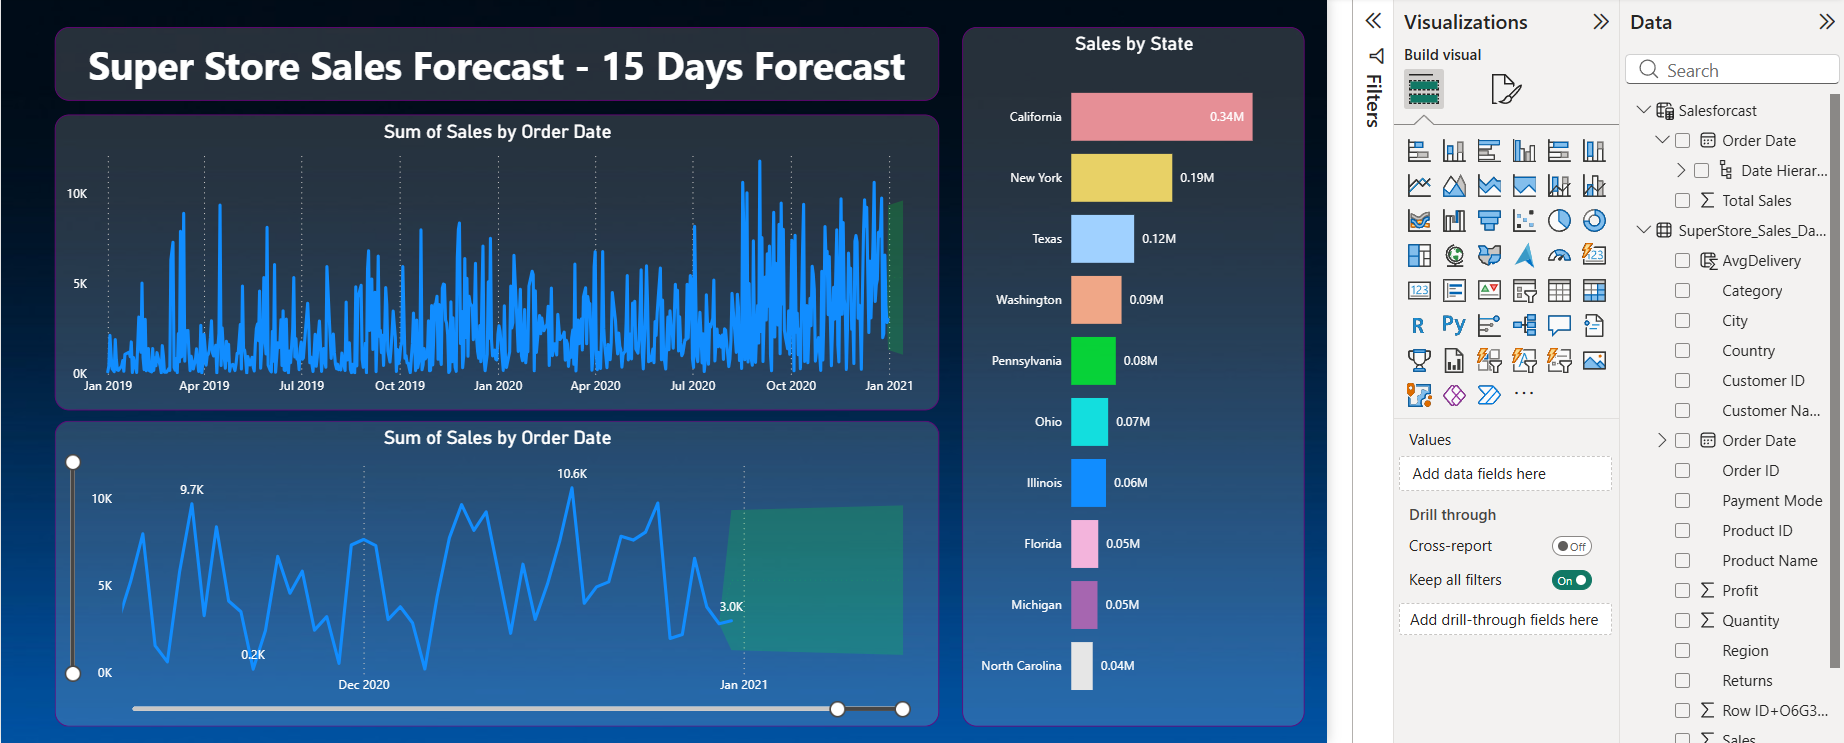

The dashboard page shown, as its layout file describes it:
{"tool":"powerbi","page":{"name":"Page 2","canvas":[1280,720],"ordinal":1},"visuals":[{"type":"lineChart","fields":{"Y":["Sum(SuperStore_Sales_Dataset.Sales)"],"Category":["SuperStore_Sales_Dataset.Order Date"]},"box":[52.1,408.9,853.5,295],"z":0},{"type":"lineChart","fields":{"Y":["Sum(SuperStore_Sales_Dataset.Sales)"],"Category":["SuperStore_Sales_Dataset.Order Date"]},"box":[52.1,113.9,853.5,285.4],"z":1000},{"type":"clusteredBarChart","title":"Sales by State","fields":{"Y":["Sum(SuperStore_Sales_Dataset.Sales)"],"Category":["SuperStore_Sales_Dataset.State"]},"box":[927.6,28.8,330.7,675.1],"z":2000},{"type":"textbox","box":[52.1,28.8,853.5,71.4],"z":3000}]}

Visuals, with their boxes on the page's 1280x720 design canvas (x1, y1, x2, y2). These are canvas units, not pixel positions in the 1844x743 screenshot, which may show the page scaled, cropped or inside an application window:
lineChart - Sum(SuperStore_Sales_Dataset.Sales) x SuperStore_Sales_Dataset.Order Date: 52,409,906,704
lineChart - Sum(SuperStore_Sales_Dataset.Sales) x SuperStore_Sales_Dataset.Order Date: 52,114,906,399
"Sales by State" clusteredBarChart: 928,29,1258,704
textbox: 52,29,906,100
